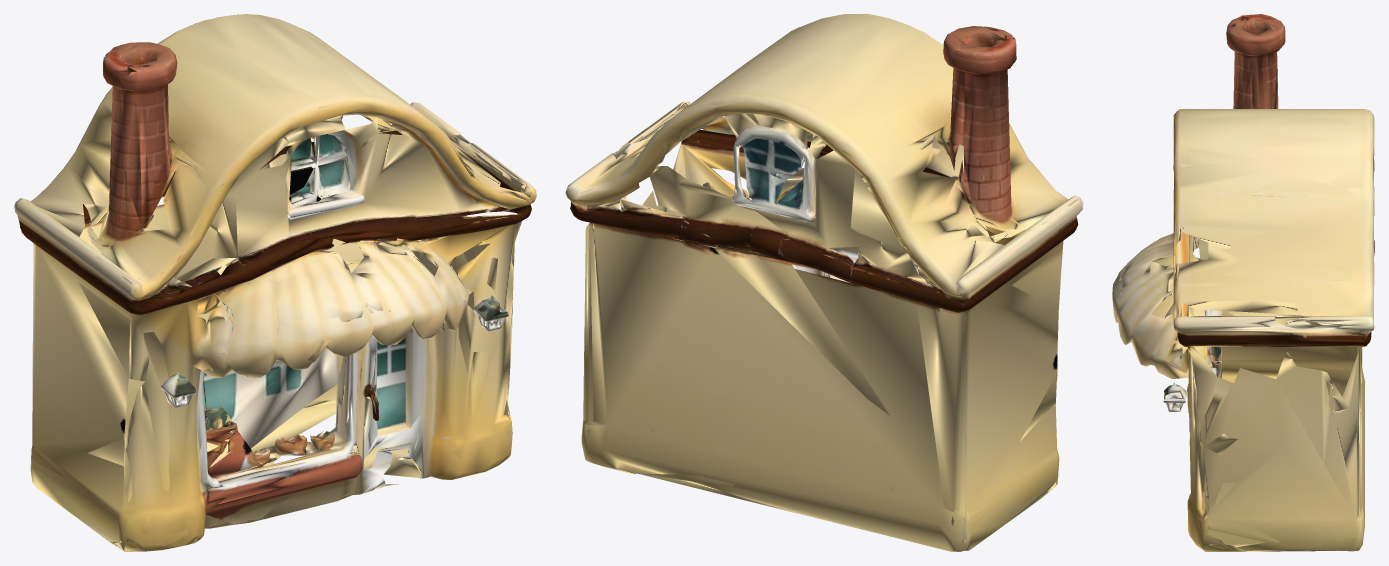
The model's file is shop_c.glb.
3 renders of one model, left to right at view 1: azimuth 30°, elevation 25°; view 2: azimuth 150°, elevation 25°; view 3: azimuth 270°, elevation 25°, orthographic. The views are drawn at different scales.
Visible parts, largest first — view 1: Mesh1.0; view 2: Mesh1.0; view 3: Mesh1.0.
Boxes of the visible parts, left/top/right/bottom form: Mesh1.0: left=14, top=14, right=536, bottom=551; Mesh1.0: left=565, top=14, right=1083, bottom=551; Mesh1.0: left=1112, top=14, right=1374, bottom=551.
Bounding box in the file's own units: 1.74 × 1.9 × 1.16.
Materials: 1 (1 with a texture image).
